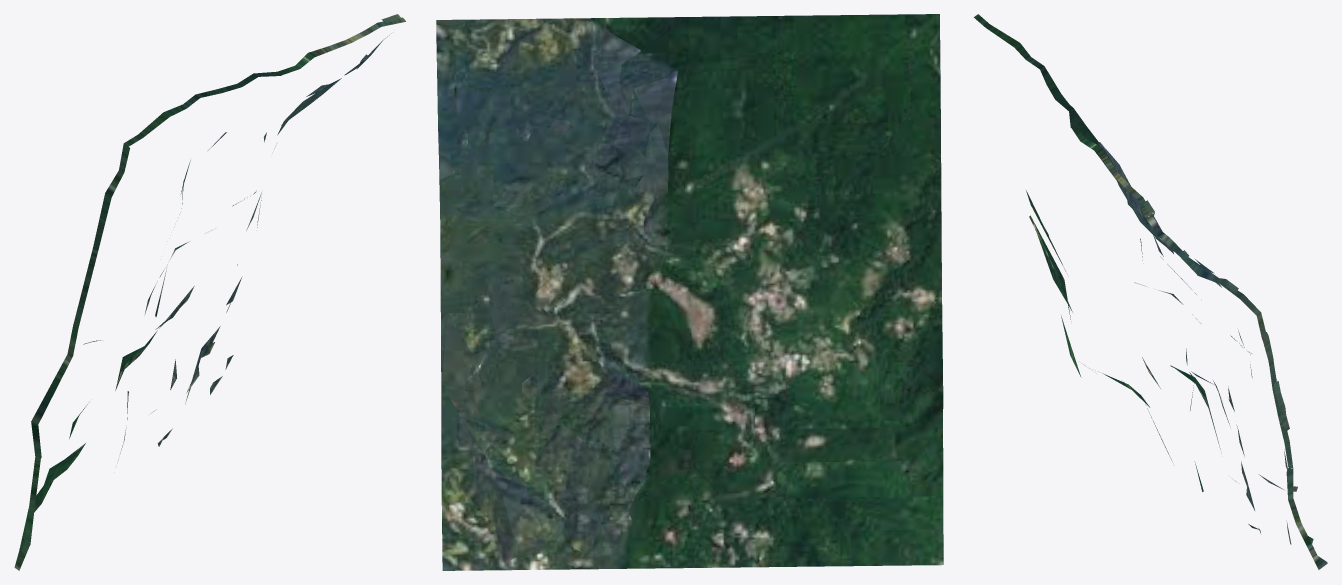
3 views of the same model, side by side, from view 1: azimuth 30°, elevation 25°; view 2: azimuth 150°, elevation 25°; view 3: azimuth 270°, elevation 25° (orthographic). The views are drawn at different scales.
Bounding box in the file's own units: 2398 × 2420 × 1798.
Materials: 1 (1 with a texture image).
